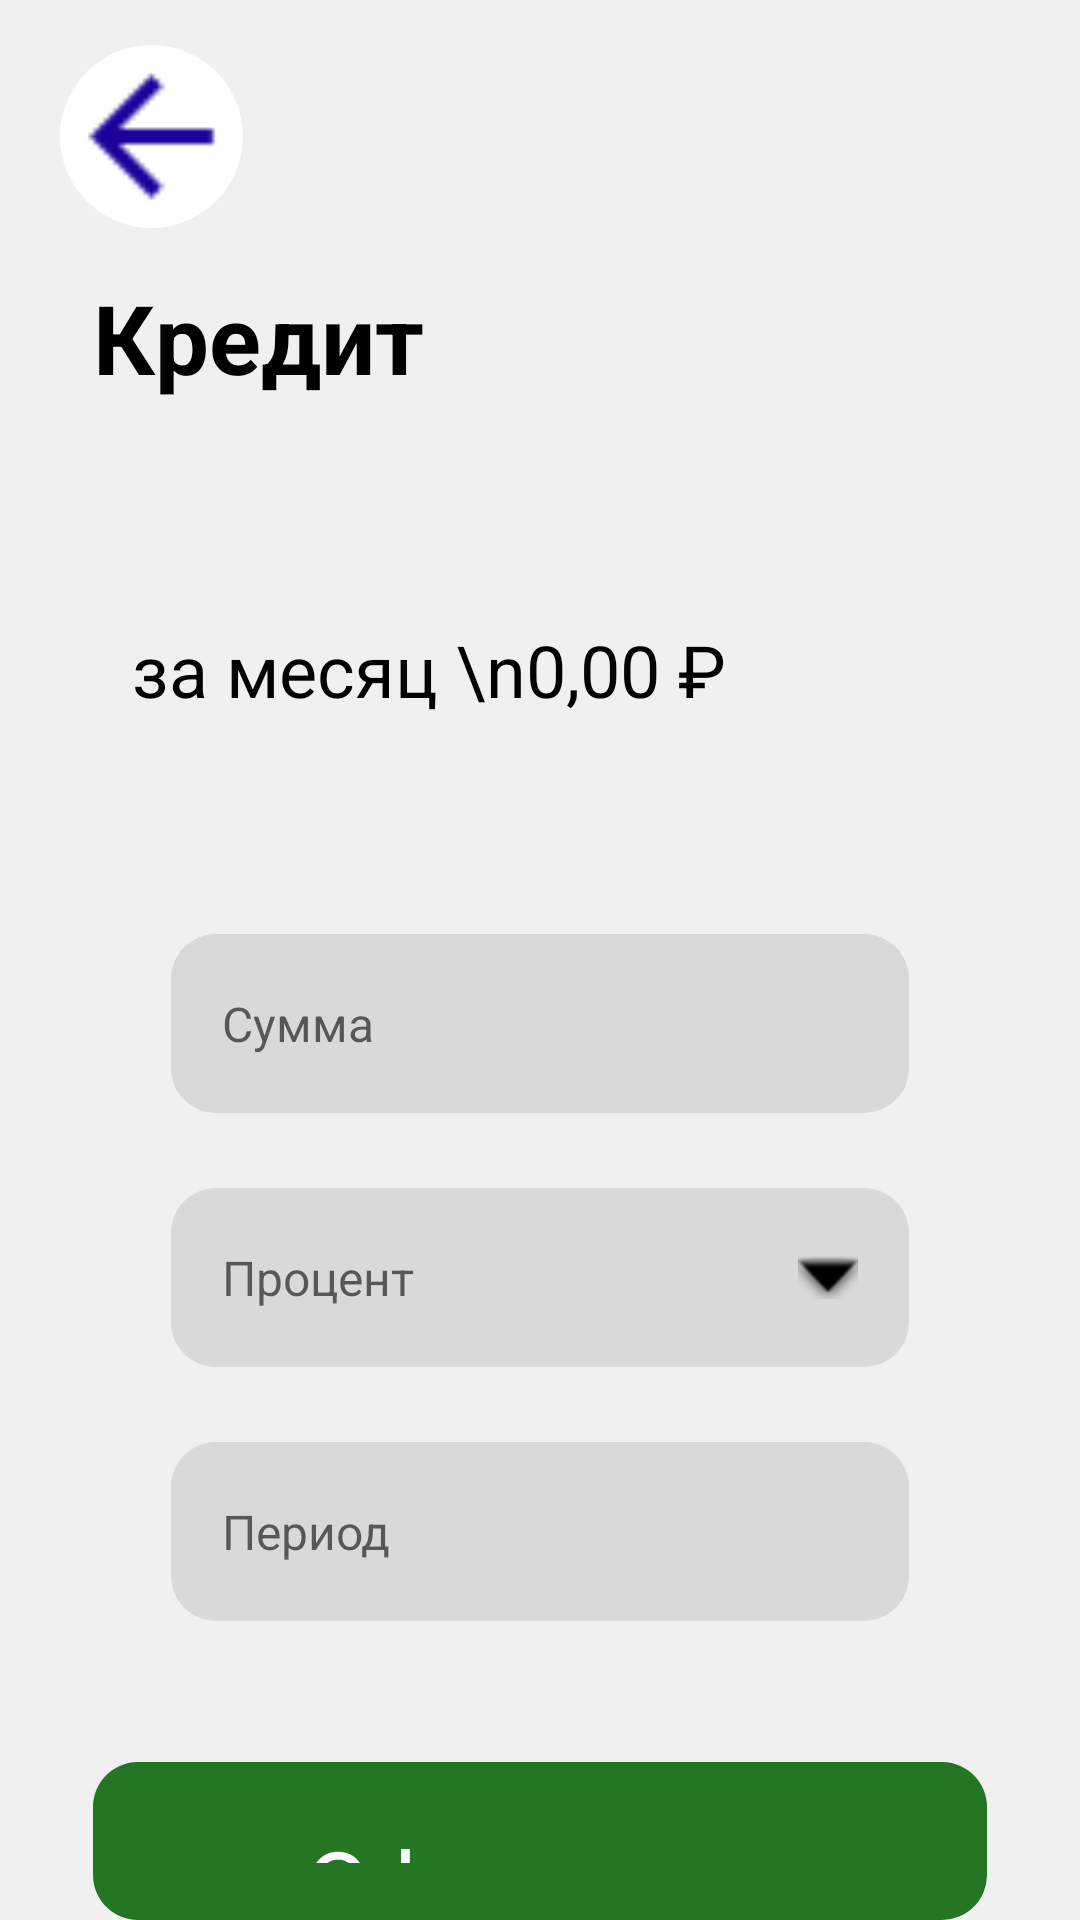

Screen size 1080px×1920px. Icon name, then its center in pixels as (x,y):
arrow down float: (828,1277)
back: (151,136)
